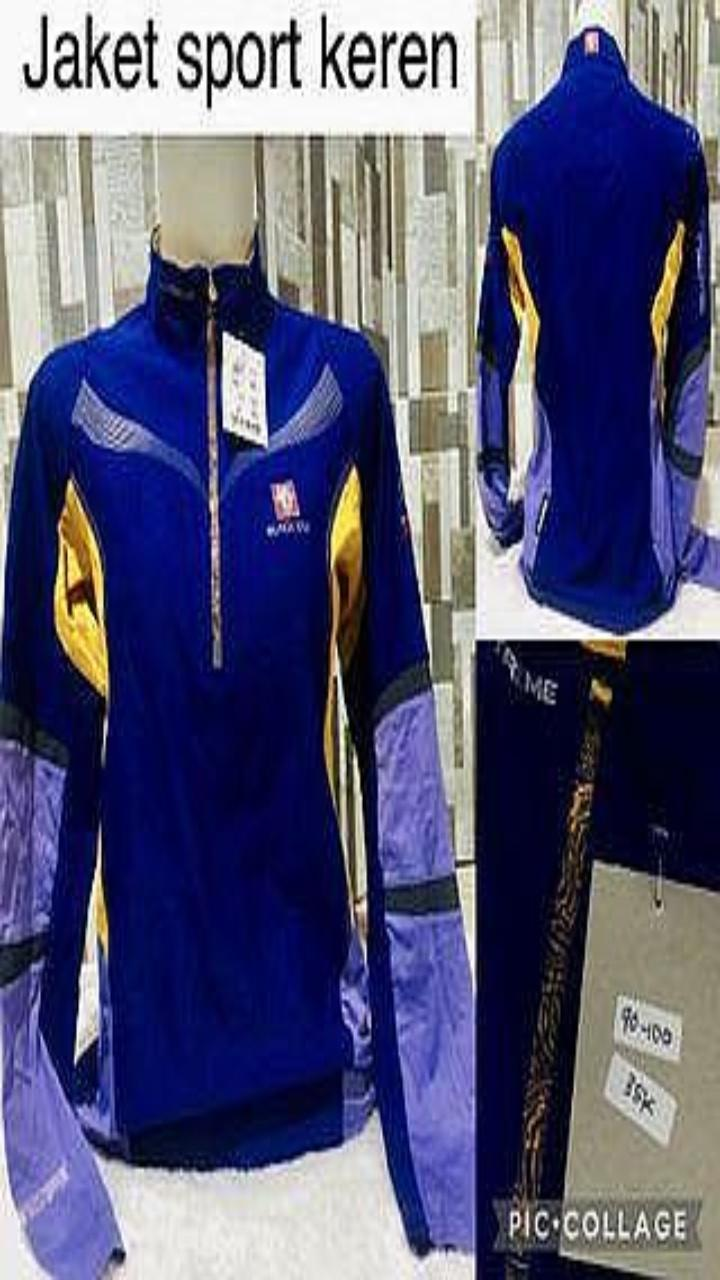Sports_Jacket: (0, 238, 474, 1279), (477, 642, 719, 1279), (478, 30, 719, 632)
